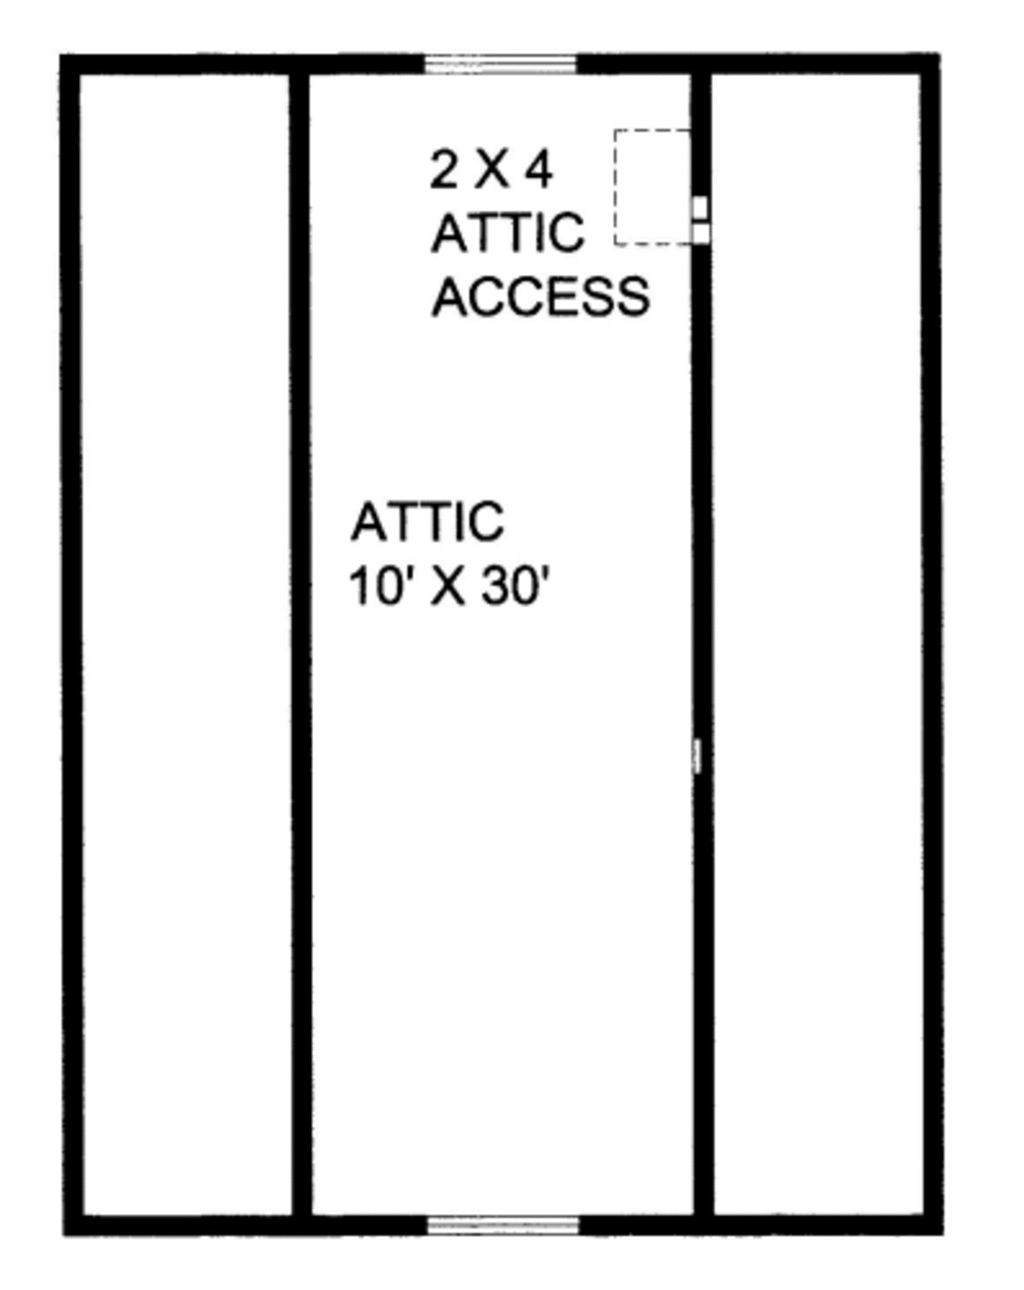window: (417, 41, 595, 87), (413, 1209, 593, 1237)
